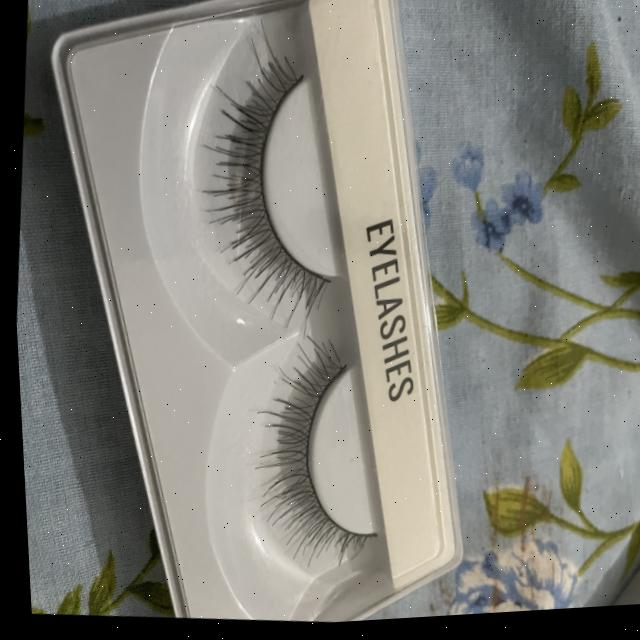eyelash curler: (172, 36, 366, 342), (217, 321, 401, 597)
